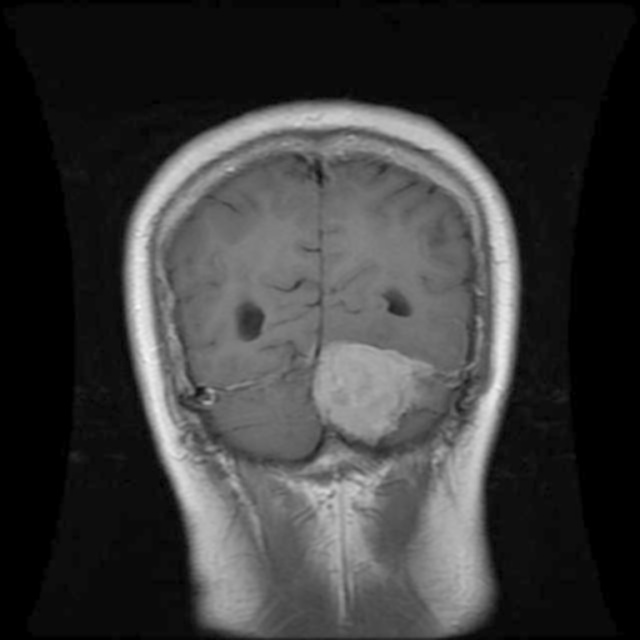meningioma tumor: (298, 349, 438, 450)
